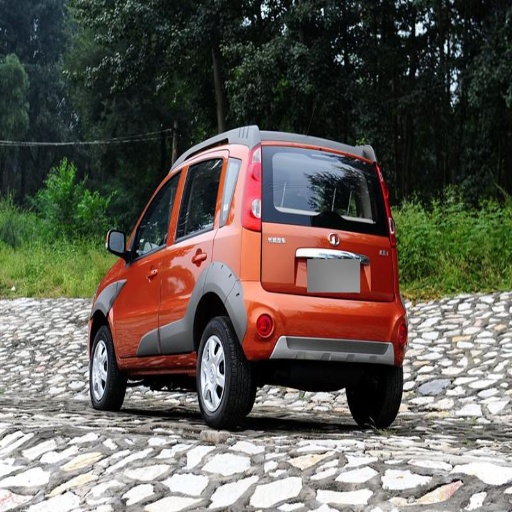back_bumper: (258, 313, 382, 360)
back_glass: (262, 147, 374, 216)
back_left_door: (159, 161, 221, 349)
trunk: (213, 223, 389, 353)
